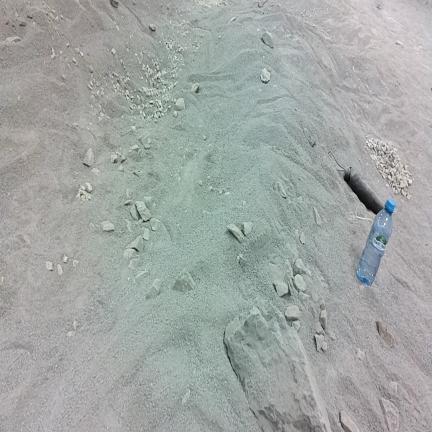Rock: (225, 298, 331, 431), (380, 398, 399, 431), (376, 321, 395, 347), (173, 271, 194, 292), (340, 410, 360, 432), (227, 224, 245, 242), (269, 264, 285, 284), (146, 279, 161, 299), (136, 202, 151, 221), (293, 259, 310, 275), (126, 236, 143, 252), (274, 281, 290, 296), (303, 128, 316, 146), (285, 306, 300, 321), (315, 334, 327, 352), (287, 244, 299, 262), (274, 181, 286, 198), (83, 148, 94, 166), (294, 275, 306, 291), (262, 32, 273, 48), (299, 292, 310, 307), (284, 260, 293, 278), (139, 129, 149, 145), (313, 207, 321, 225), (242, 222, 253, 235), (320, 310, 327, 330), (175, 98, 185, 111), (389, 381, 397, 397), (182, 389, 190, 405), (261, 69, 270, 83), (103, 221, 114, 232), (131, 205, 139, 220), (124, 249, 136, 259), (150, 218, 159, 231), (129, 258, 139, 269), (315, 323, 324, 335), (356, 348, 365, 360), (6, 36, 21, 43), (136, 270, 149, 278), (238, 255, 246, 267), (309, 305, 316, 318), (143, 196, 152, 206), (288, 279, 294, 294), (326, 331, 335, 340), (110, 154, 118, 164), (292, 321, 300, 331), (311, 291, 318, 302), (126, 188, 132, 200), (143, 228, 149, 240), (192, 83, 199, 93), (57, 264, 63, 275), (377, 142, 385, 150), (376, 0, 383, 9), (130, 145, 139, 152), (144, 139, 150, 149), (300, 232, 305, 244), (111, 0, 118, 8), (46, 262, 53, 270), (133, 169, 141, 176), (92, 168, 100, 175), (86, 183, 92, 192), (320, 300, 325, 310), (88, 64, 93, 74), (229, 17, 236, 24), (67, 331, 75, 337), (73, 259, 79, 267), (51, 48, 55, 59), (149, 24, 155, 31), (120, 155, 126, 162), (20, 20, 27, 26), (296, 196, 302, 203), (396, 40, 403, 46), (63, 255, 68, 263), (72, 123, 78, 129), (124, 200, 131, 205), (118, 165, 123, 171), (72, 57, 76, 63), (5, 18, 9, 24), (112, 48, 115, 55), (198, 180, 202, 185), (75, 48, 79, 53), (393, 167, 397, 172), (80, 52, 83, 57)
